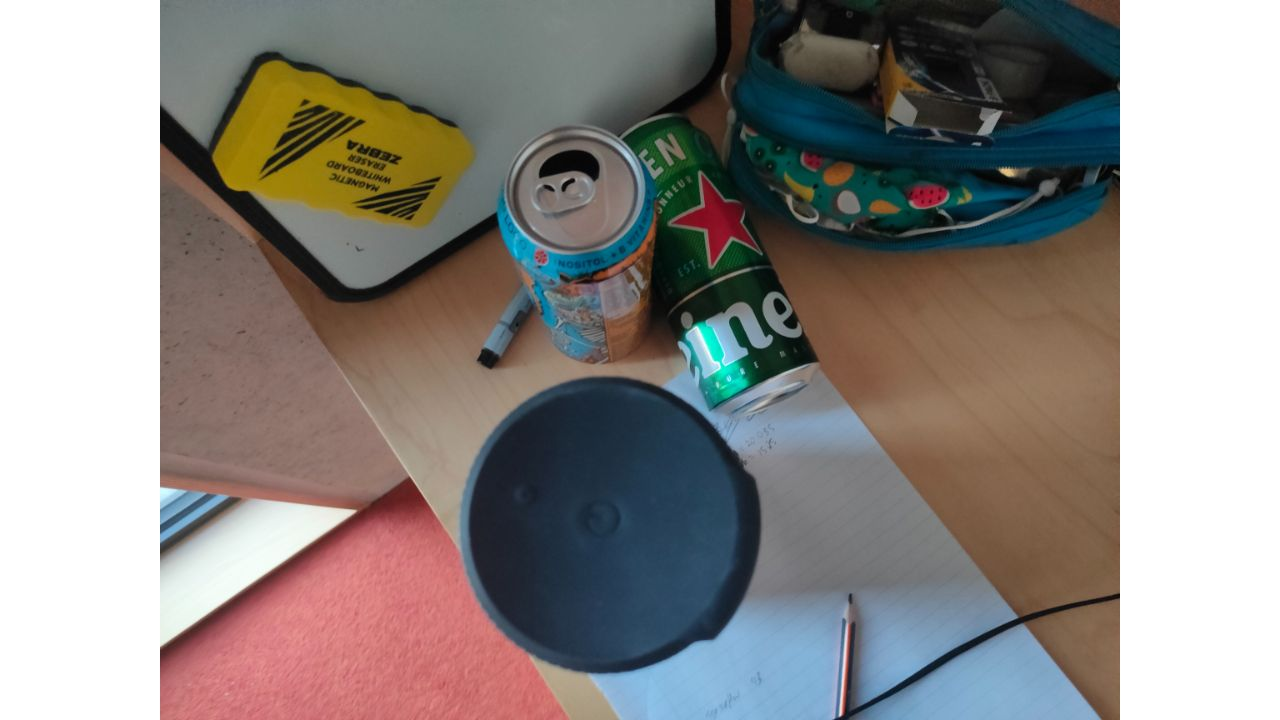Can: (623, 115, 819, 420), (498, 121, 660, 362)
